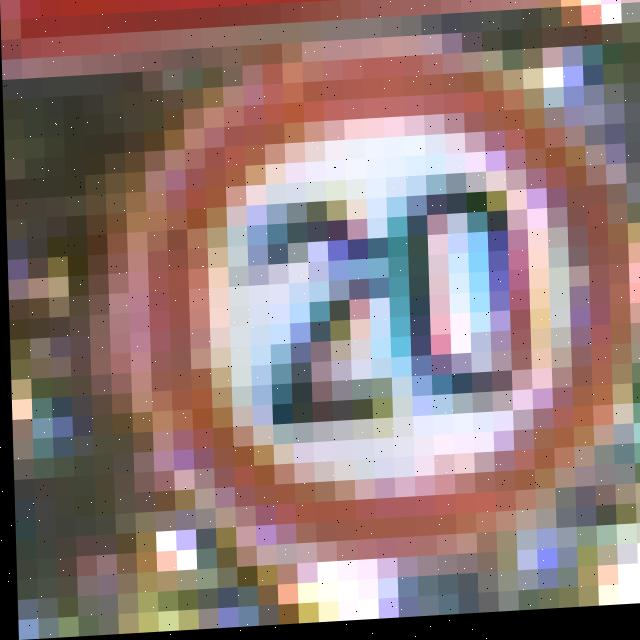speed_limit_20: (120, 32, 632, 579)
